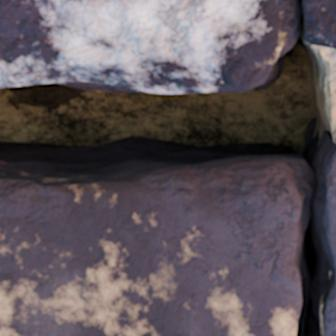broken_brick: (0, 158, 309, 335), (0, 0, 291, 92), (306, 0, 335, 50), (323, 142, 335, 258), (327, 289, 335, 335)
crack: (0, 0, 335, 335)
